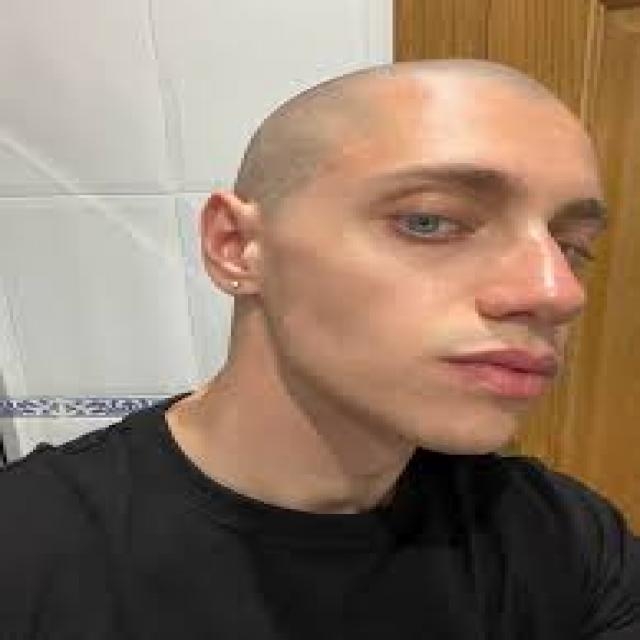bald: (200, 46, 623, 226)
